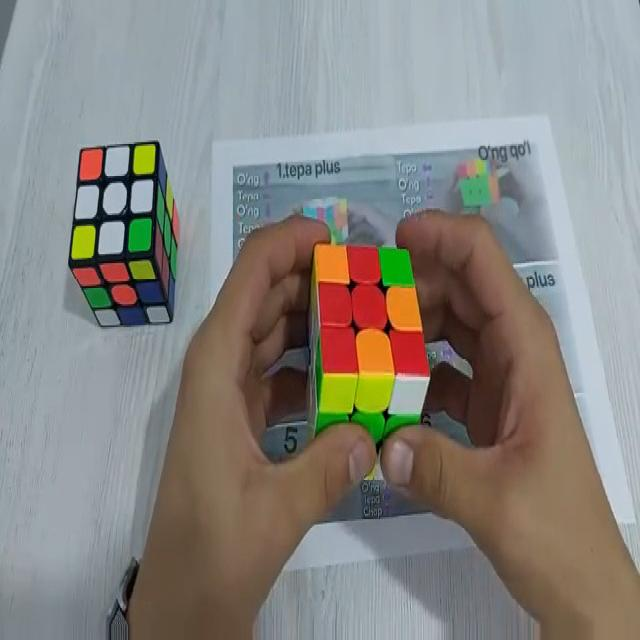Rub: (306, 239, 431, 477), (68, 142, 181, 332)
